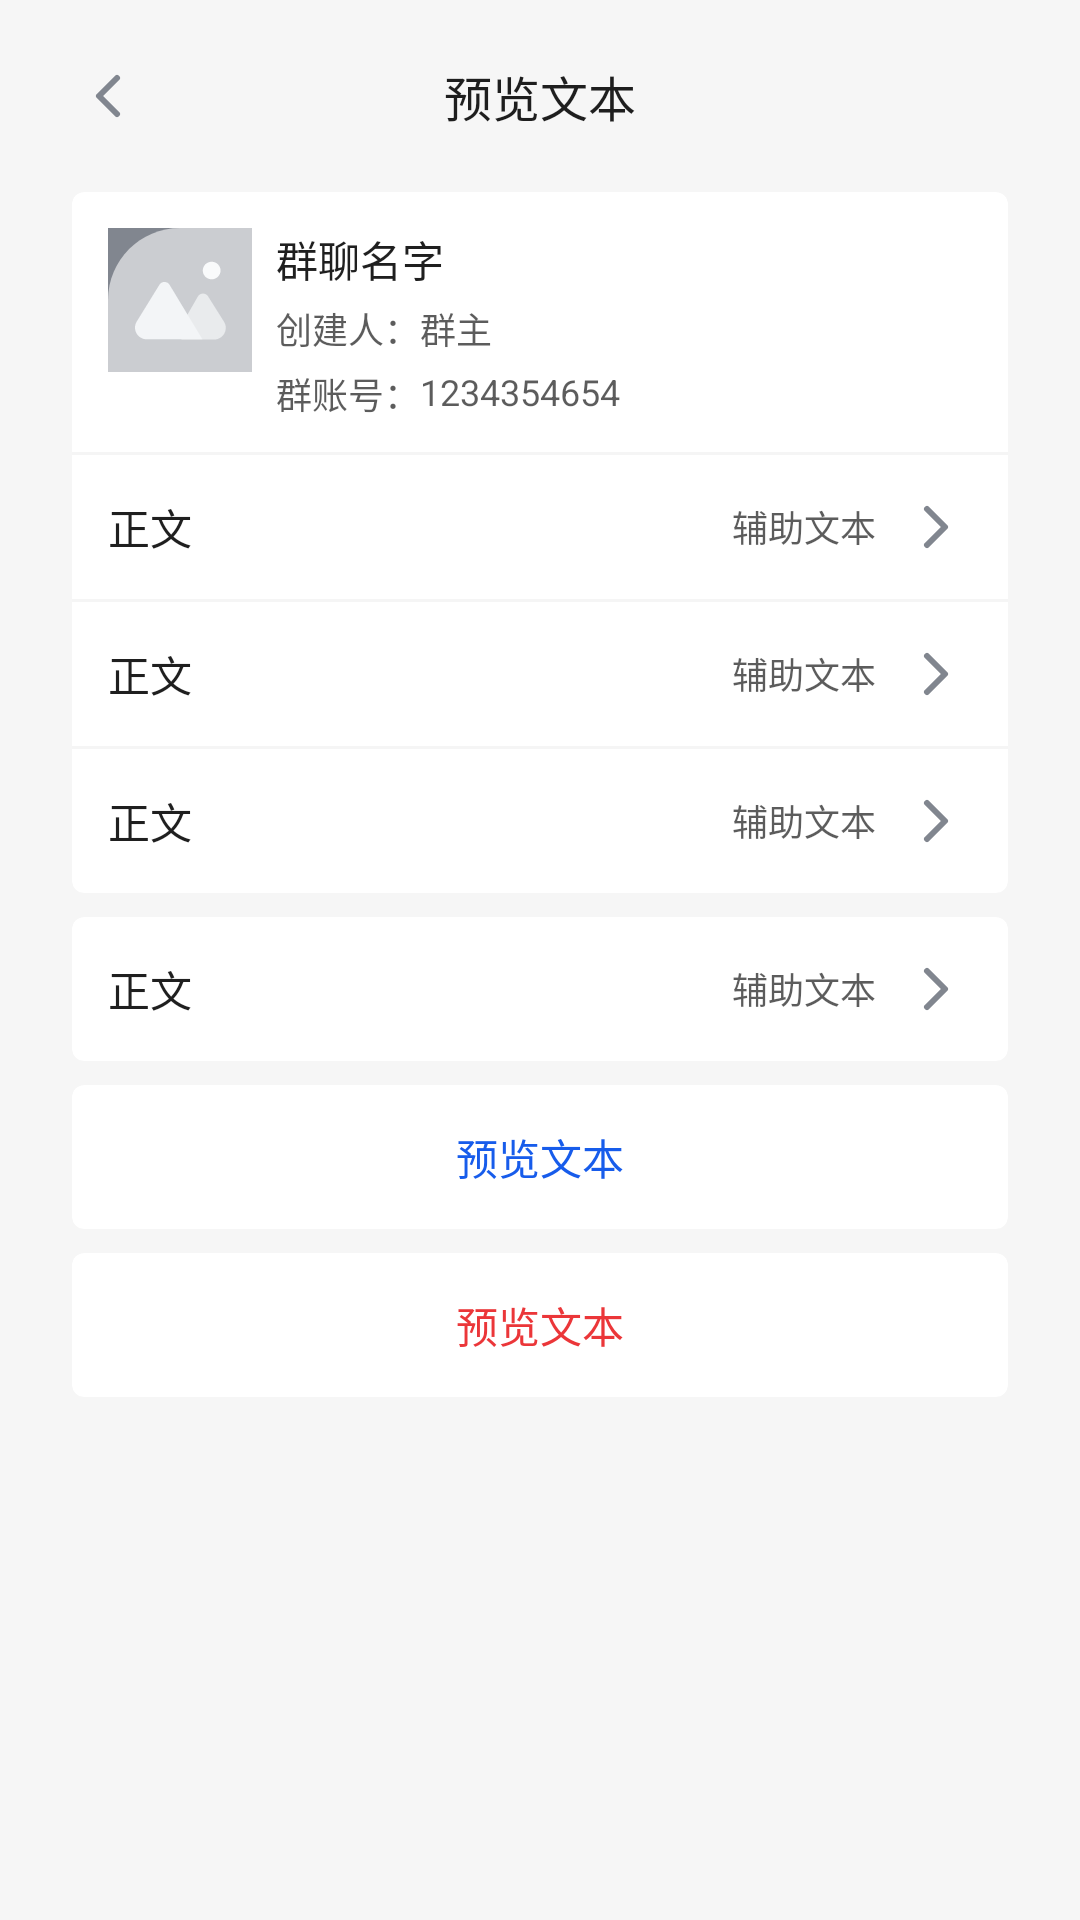

Screen size 1080px x 1920px. Icon name, then its center in pixels as (x,y):
chevron left: (108,96)
chevron right: (936,527), (936,674), (936,821), (936,989)
